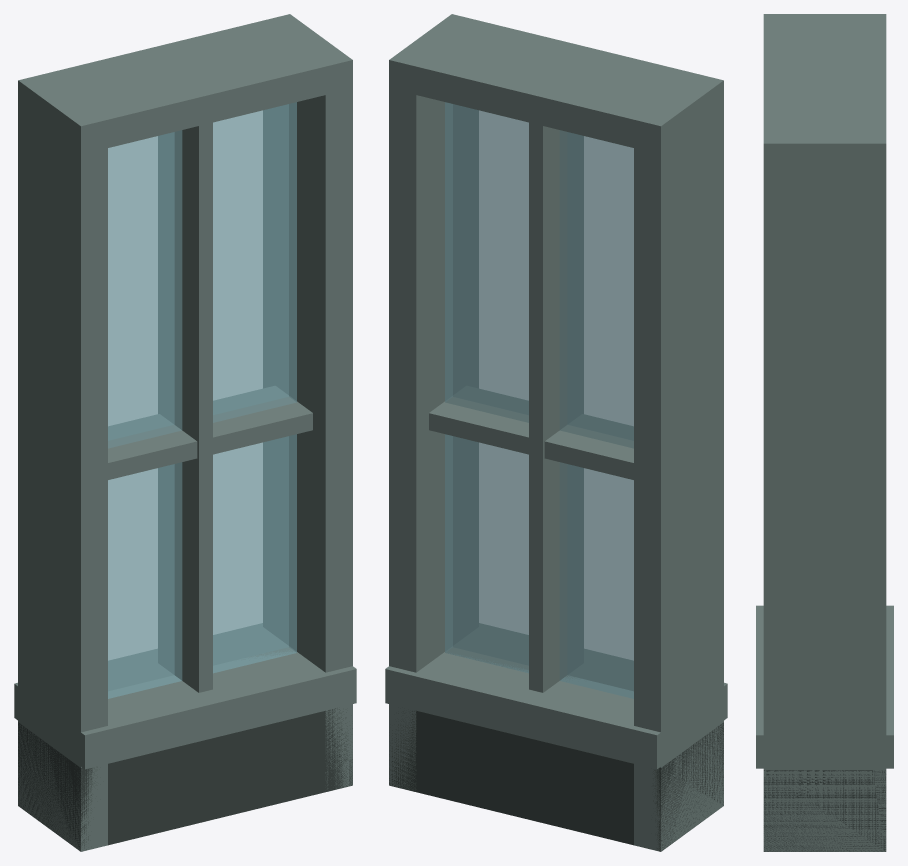
File: CMU3DPrisonWindow.glb
3 renders of one model, left to right at view 1: azimuth 30°, elevation 25°; view 2: azimuth 150°, elevation 25°; view 3: azimuth 270°, elevation 25°, orthographic. The views are drawn at different scales.
Parts seen in each view (by area): view 1: tinted glass, left jamb, right jamb, central mullion, under-window panel, lintel, sill, middle transom; view 2: tinted glass, left jamb, right jamb, central mullion, under-window panel, lintel, sill, middle transom; view 3: right jamb, lintel, under-window panel, sill, left jamb.
Boxes of the visible parts, x1,y1,x2,y2 form: tinted glass: (108,102,296,698); left jamb: (18,74,107,851); right jamb: (263,14,352,789); central mullion: (158,122,212,692); under-window panel: (18,708,352,851); lintel: (18,15,352,154); sill: (14,623,356,769); middle transom: (108,386,312,479); tinted glass: (445,102,633,698); left jamb: (634,74,723,851); right jamb: (389,14,478,791); central mullion: (529,122,583,692); under-window panel: (389,710,723,851); lintel: (389,14,723,154); sill: (385,623,727,769); middle transom: (429,386,633,479); right jamb: (763,130,886,851); lintel: (763,14,886,171); under-window panel: (763,770,886,851); sill: (756,605,893,768); left jamb: (763,14,886,26).
Bounding box in the file's own units: 1 × 2.55 × 0.45.
